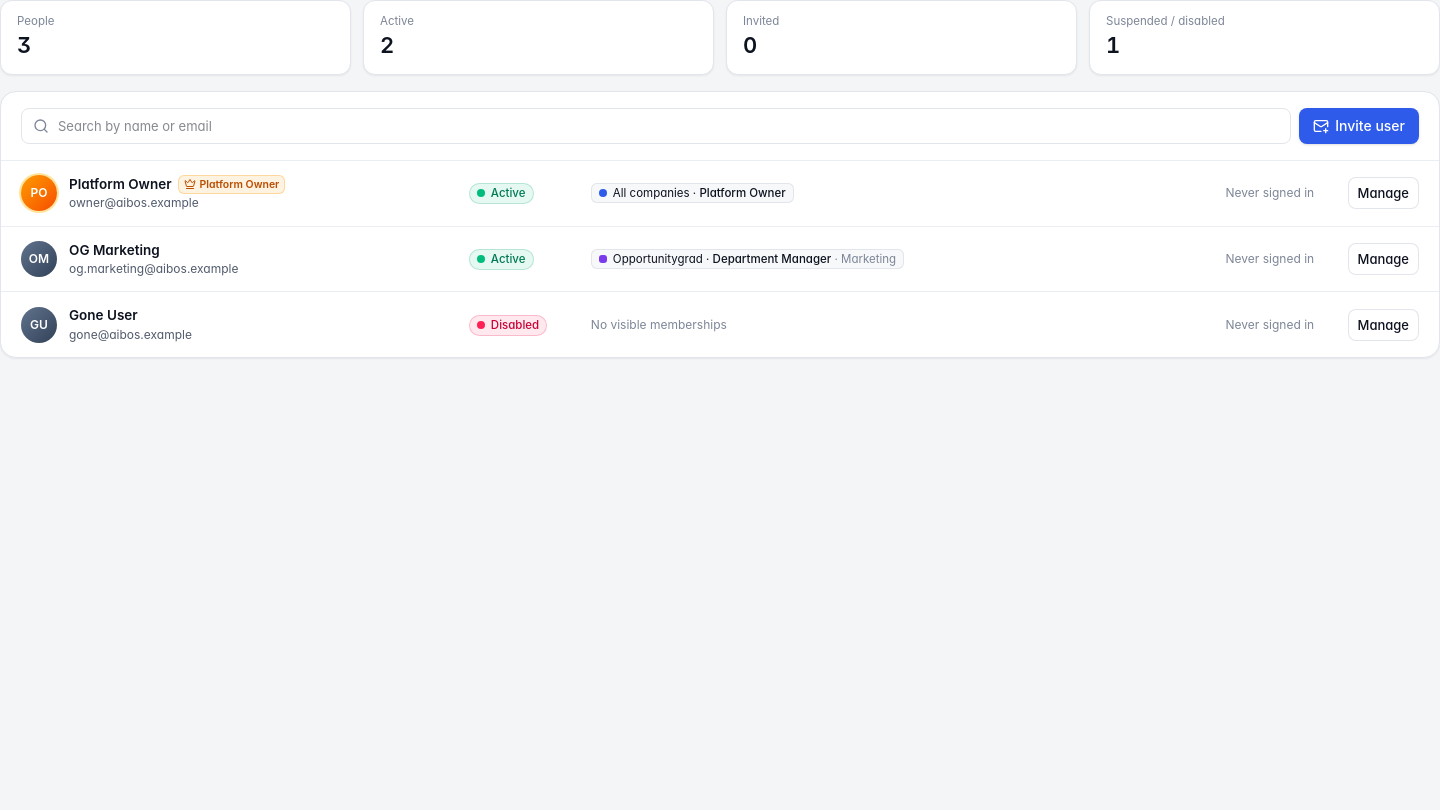
Users & Access › invites a user and shows the single-use link
Click the button "Invite user" at (1359,126), box [1299, 108, 1419, 144]
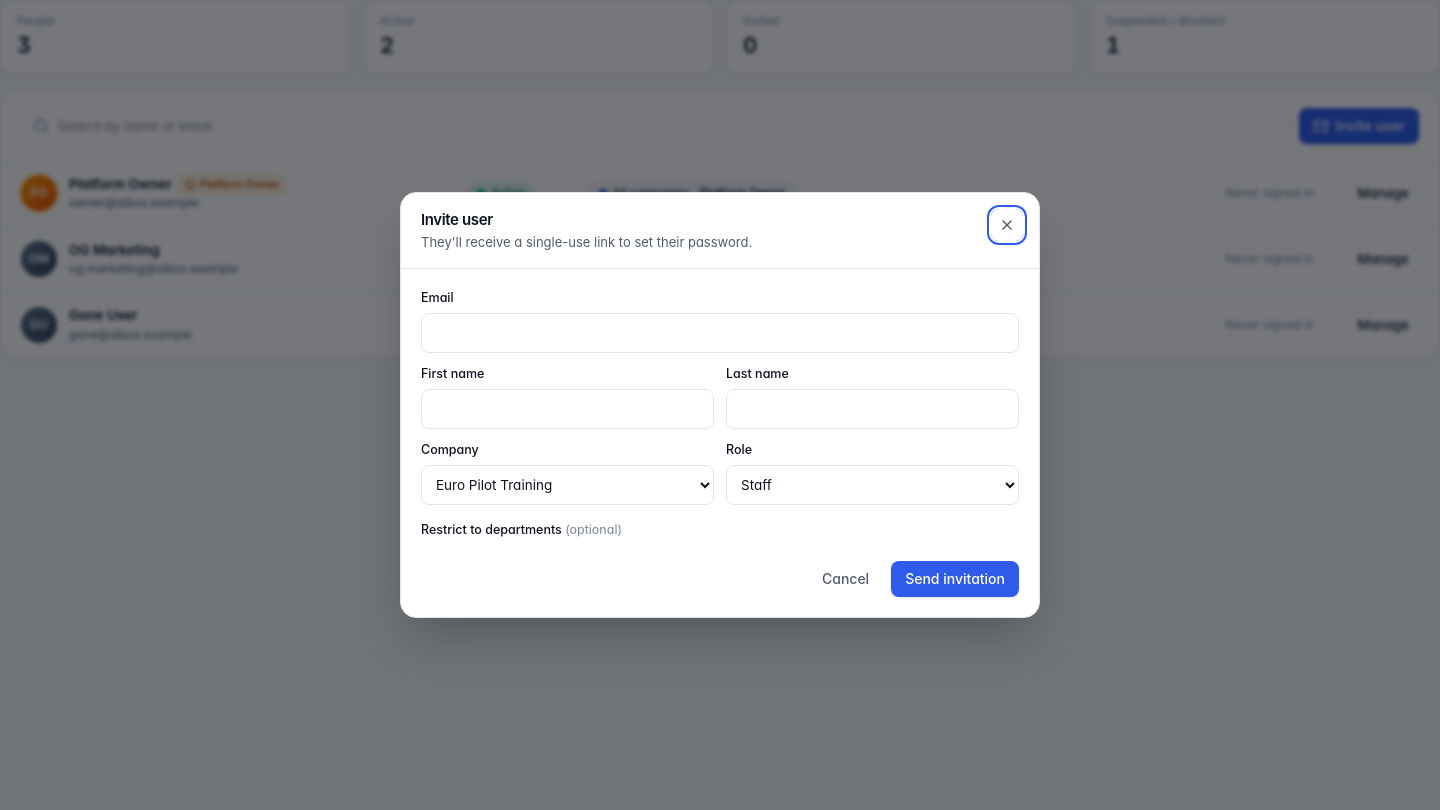
Type "new@aibos.example" into the field labelled "Email" at (720,333), box [421, 313, 1019, 353]
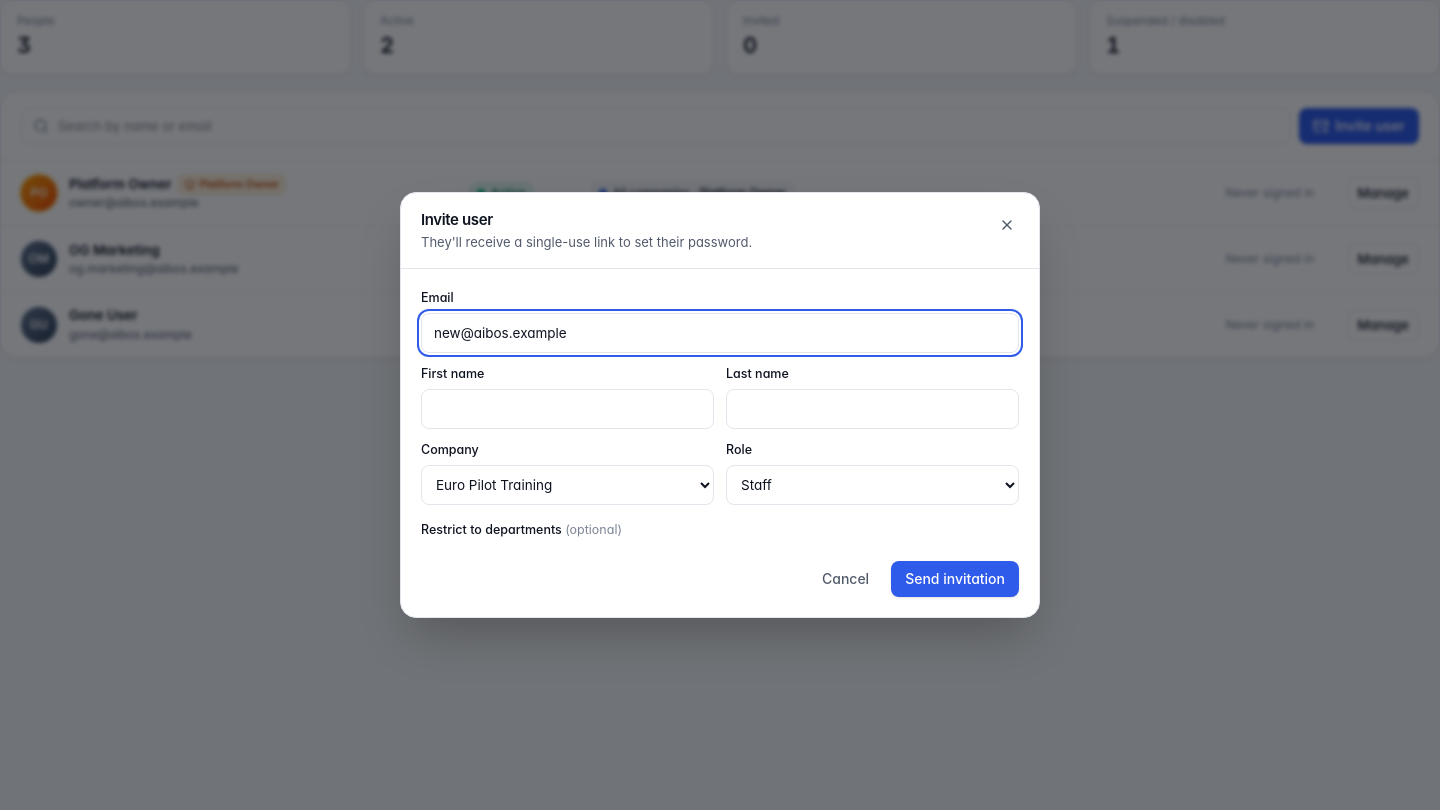
Type "New" into the field labelled "First name" at (568,409), box [421, 389, 714, 429]
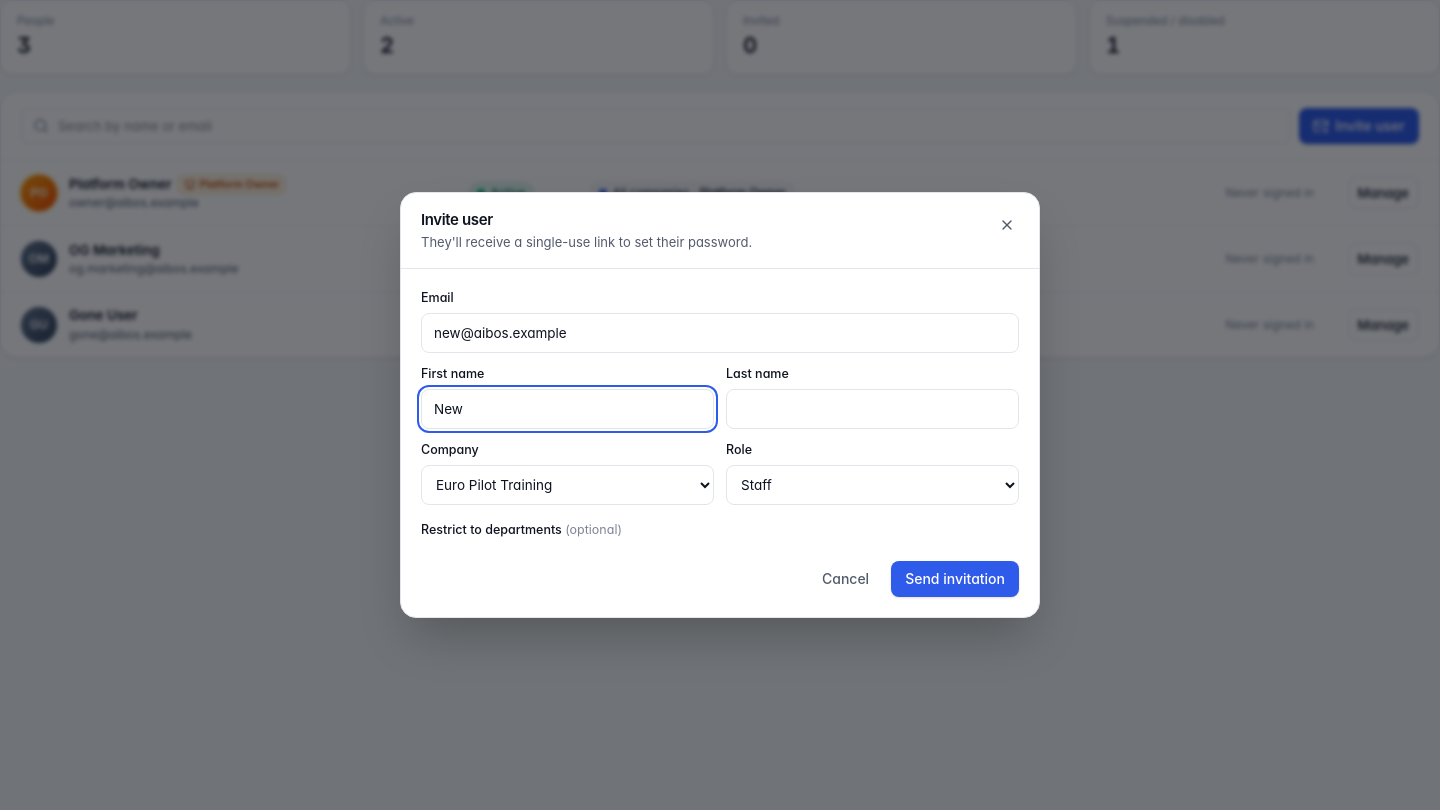
Select "Euro Pilot Training" in the dropdown labelled "Company" at (568,485), box [421, 465, 714, 505]
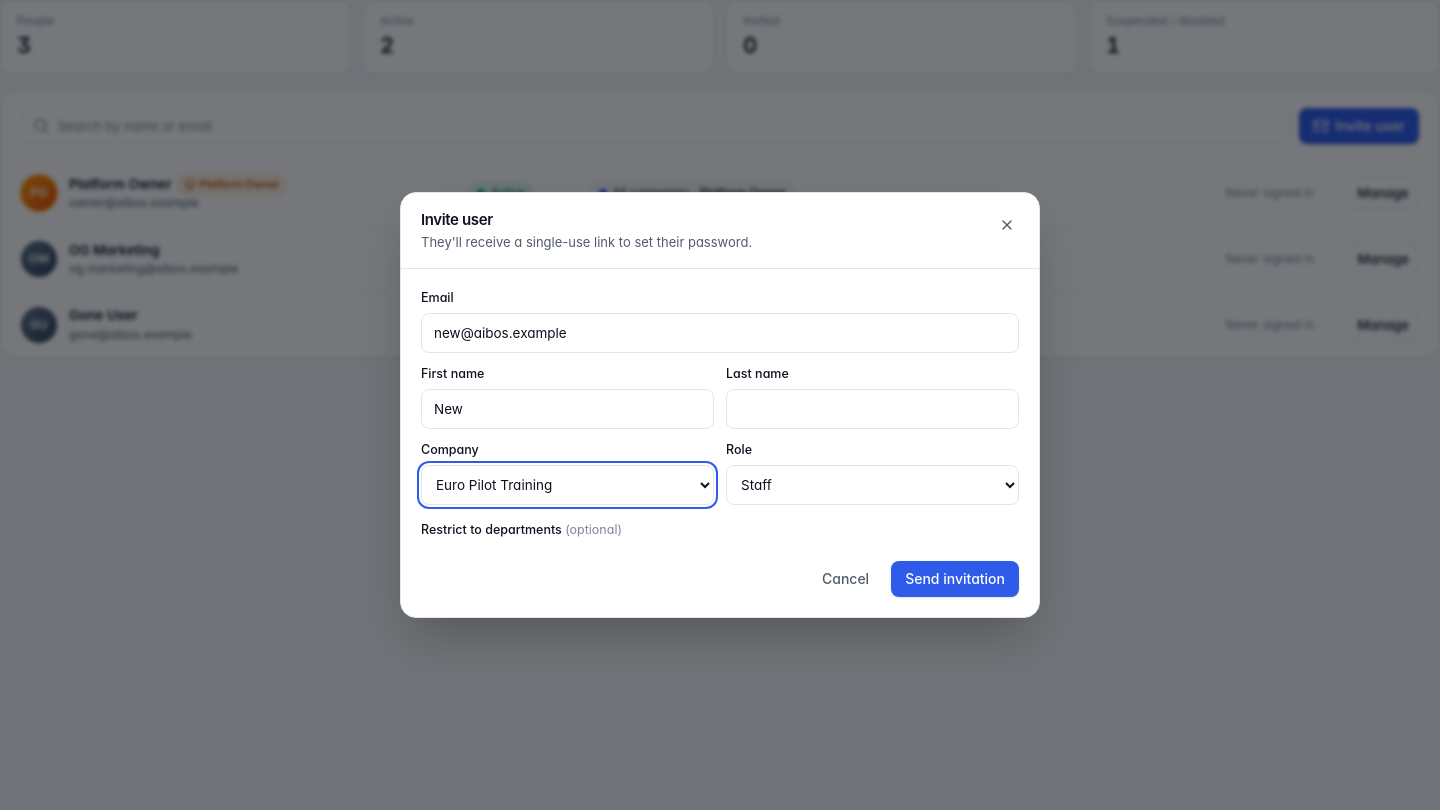
Click the button "Send invitation" at (955,579), box [891, 561, 1019, 597]
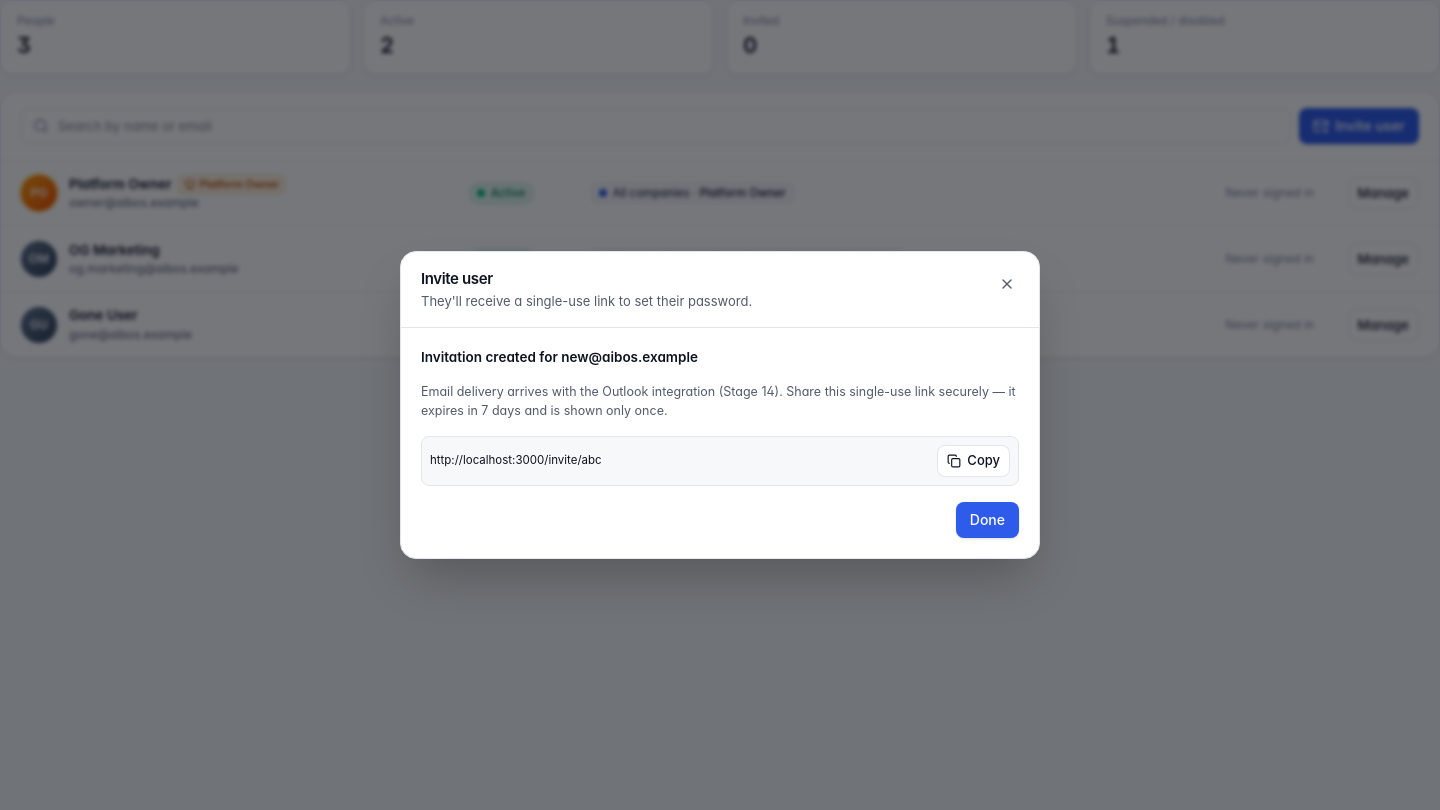
Check: the text "http://localhost:3000/invite/abc" is shown, box [430, 453, 602, 467]
